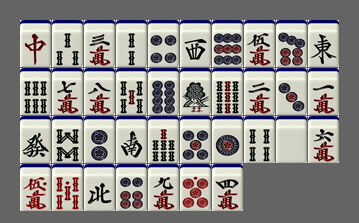0m: (20, 164, 51, 211)
0p: (180, 164, 211, 211)
0s: (52, 164, 83, 211)
1m: (308, 68, 339, 115)
1p: (212, 116, 243, 163)
1s: (180, 68, 211, 115)
1z: (308, 20, 339, 67)
2m: (244, 68, 275, 115)
2p: (84, 116, 115, 163)
2s: (116, 20, 147, 67)
2z: (116, 116, 147, 163)
3m: (84, 20, 115, 67)
3p: (276, 68, 307, 115)
3s: (52, 20, 83, 67)
3z: (180, 20, 211, 67)
4m: (212, 164, 243, 211)
4p: (148, 20, 179, 67)
4s: (244, 116, 275, 163)
4z: (84, 164, 115, 211)
5m: (244, 20, 275, 67)
5p: (180, 116, 211, 163)
5s: (116, 68, 147, 115)
5z: (276, 116, 307, 163)
6m: (308, 116, 339, 163)
6p: (116, 164, 147, 211)
6s: (20, 68, 51, 115)
6z: (20, 116, 51, 163)
7m: (52, 68, 83, 115)
7p: (276, 20, 307, 67)
7s: (148, 116, 179, 163)
7z: (20, 20, 51, 67)
8m: (84, 68, 115, 115)
8p: (148, 68, 179, 115)
8s: (52, 116, 83, 163)
9m: (148, 164, 179, 211)
9p: (212, 20, 243, 67)
9s: (212, 68, 243, 115)
